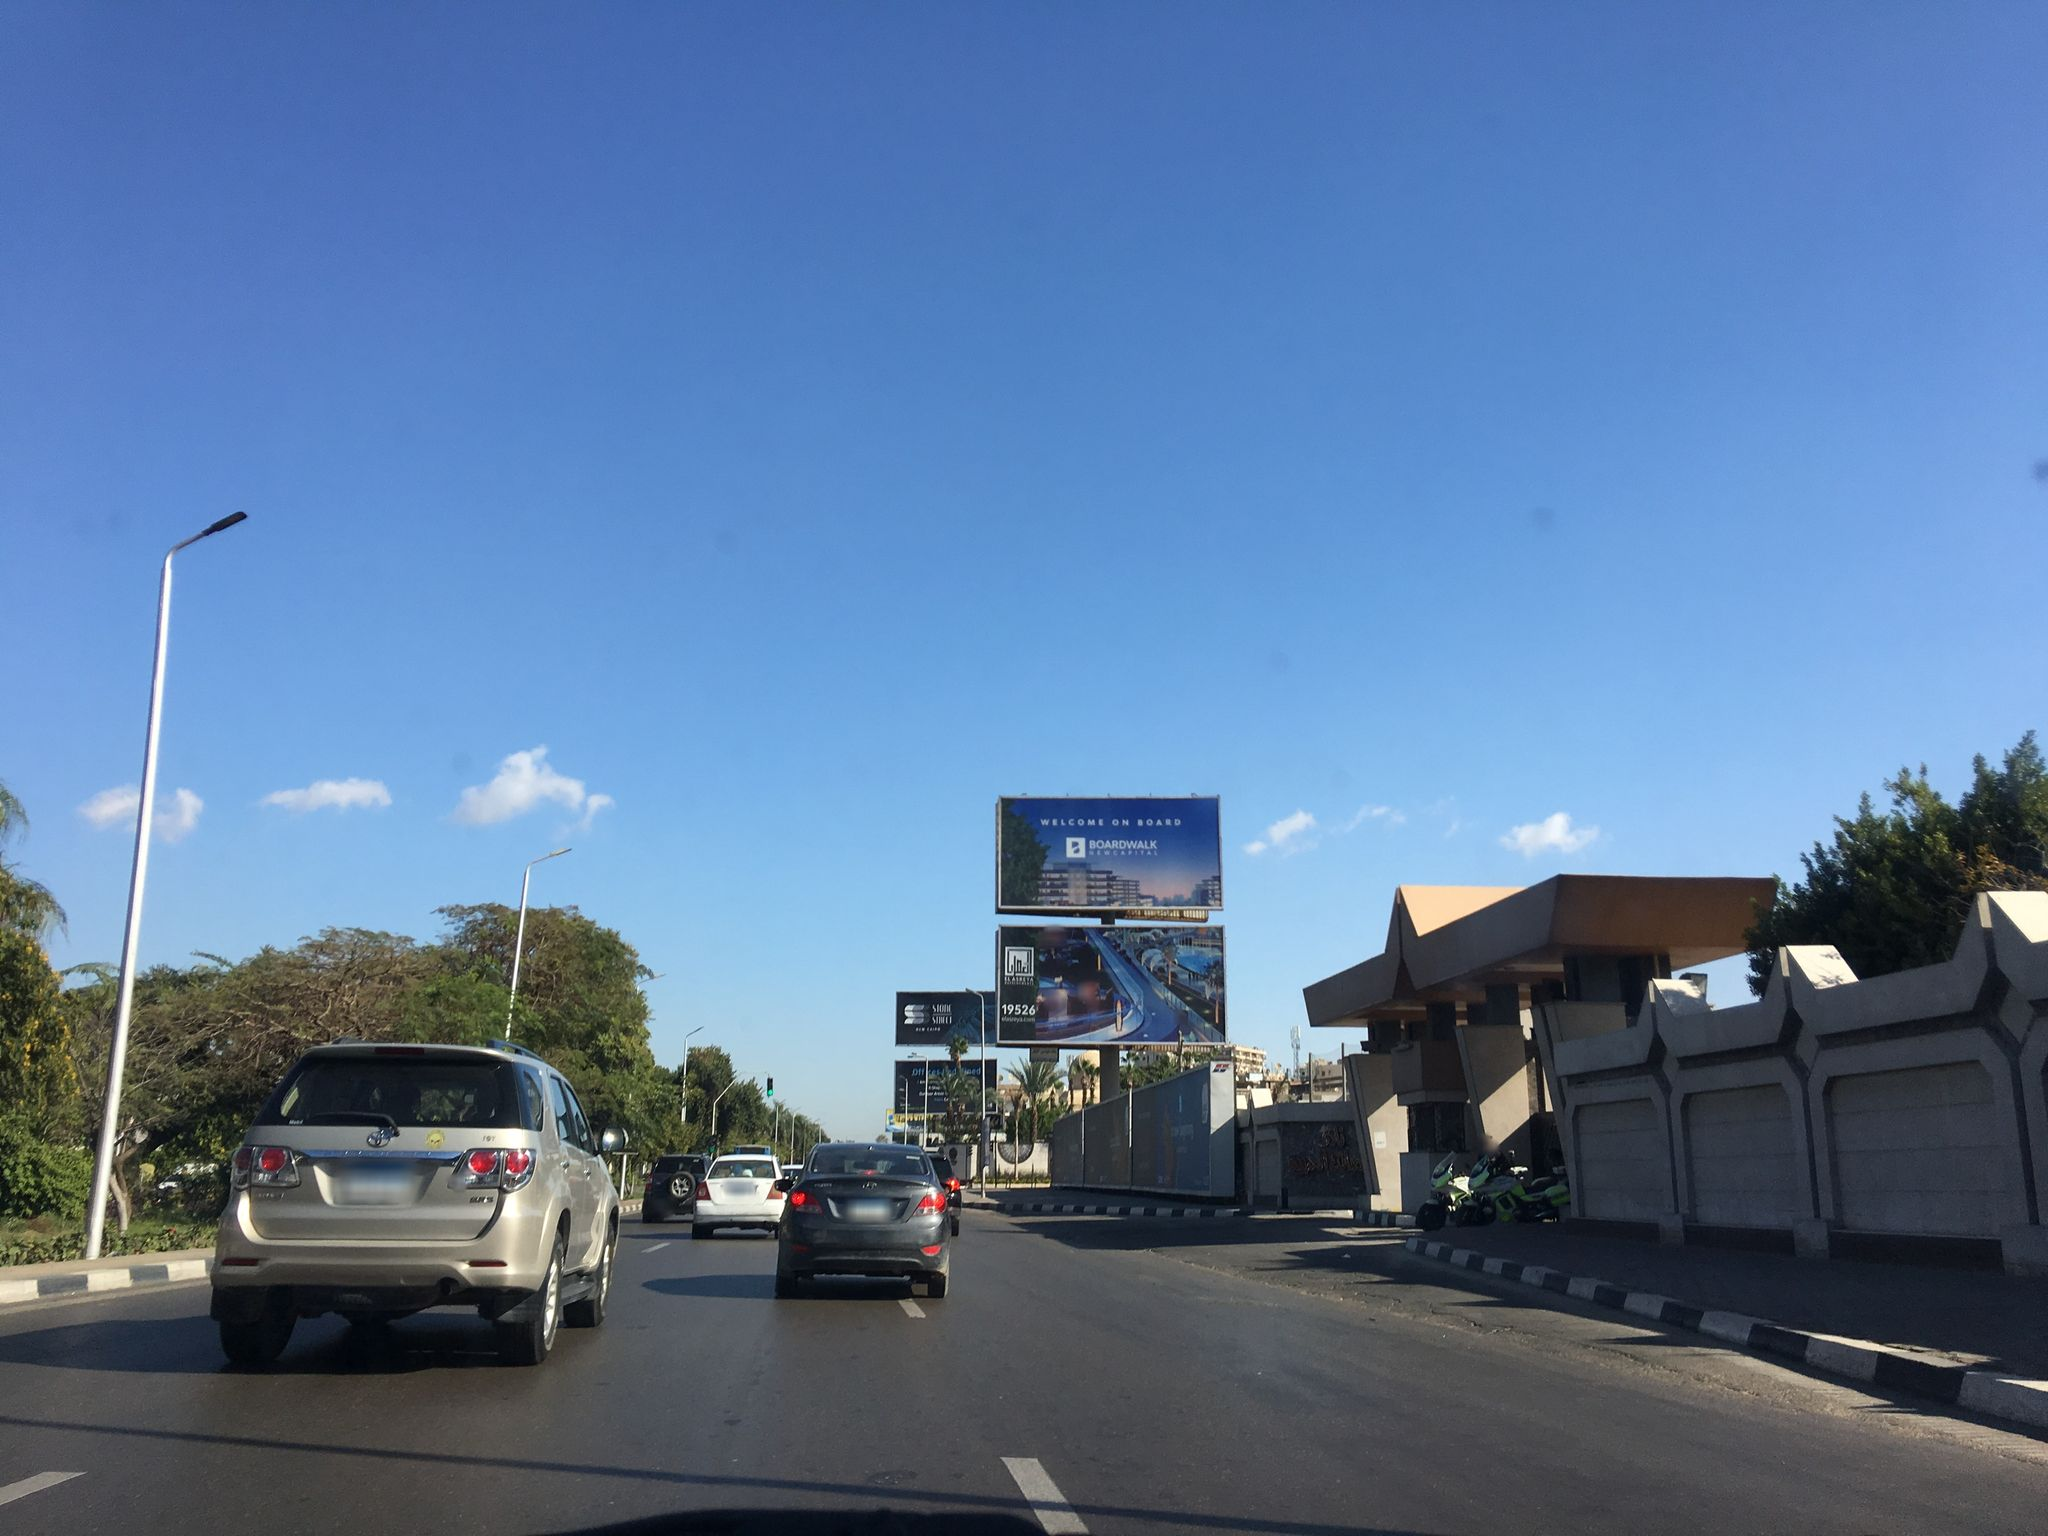car: (211, 1031, 626, 1367), (774, 1142, 951, 1297), (690, 1155, 790, 1236), (639, 1152, 711, 1221), (916, 1154, 964, 1242)
motorcycle: (1417, 1149, 1529, 1233), (1458, 1150, 1569, 1226)
